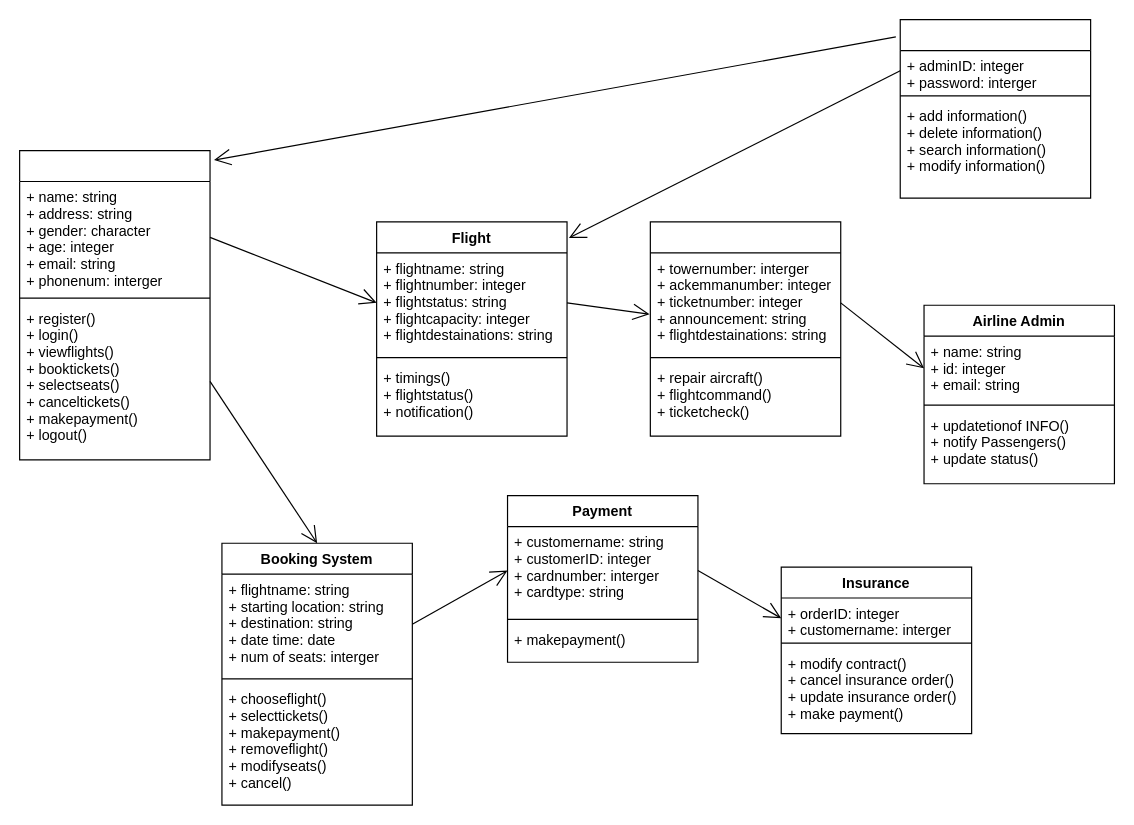
This 1134x825 diagram has some shape labels left out. The shapes that lost their labels are listed below. From the top down, each one's box as (x1, y1, x2, y2) in pixels, then its label:
(899, 18, 1091, 198): Administrator
(18, 149, 210, 460): Customer
(649, 221, 841, 436): Airport
